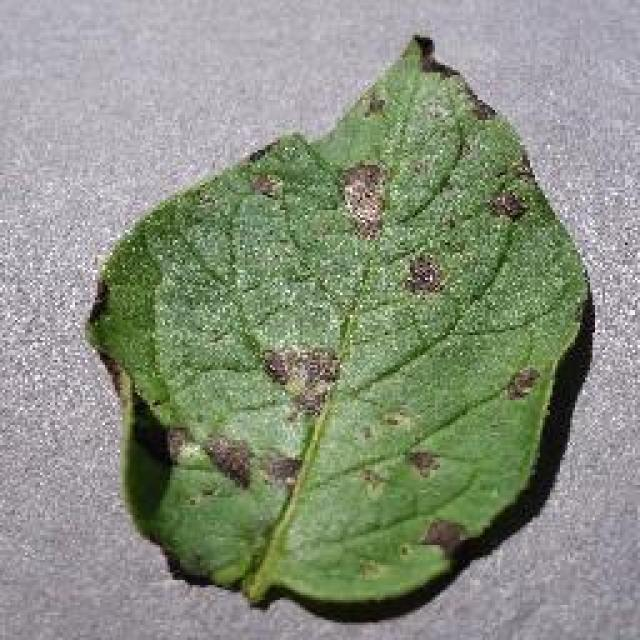Potato: (82, 30, 592, 618)
